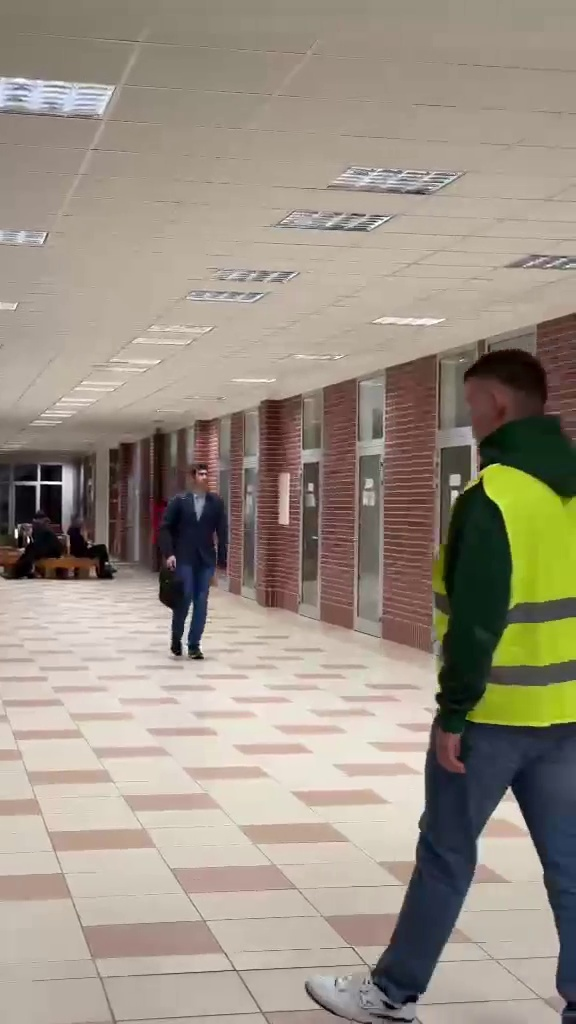no vest: (150, 453, 230, 662)
vest: (347, 346, 576, 1024)
